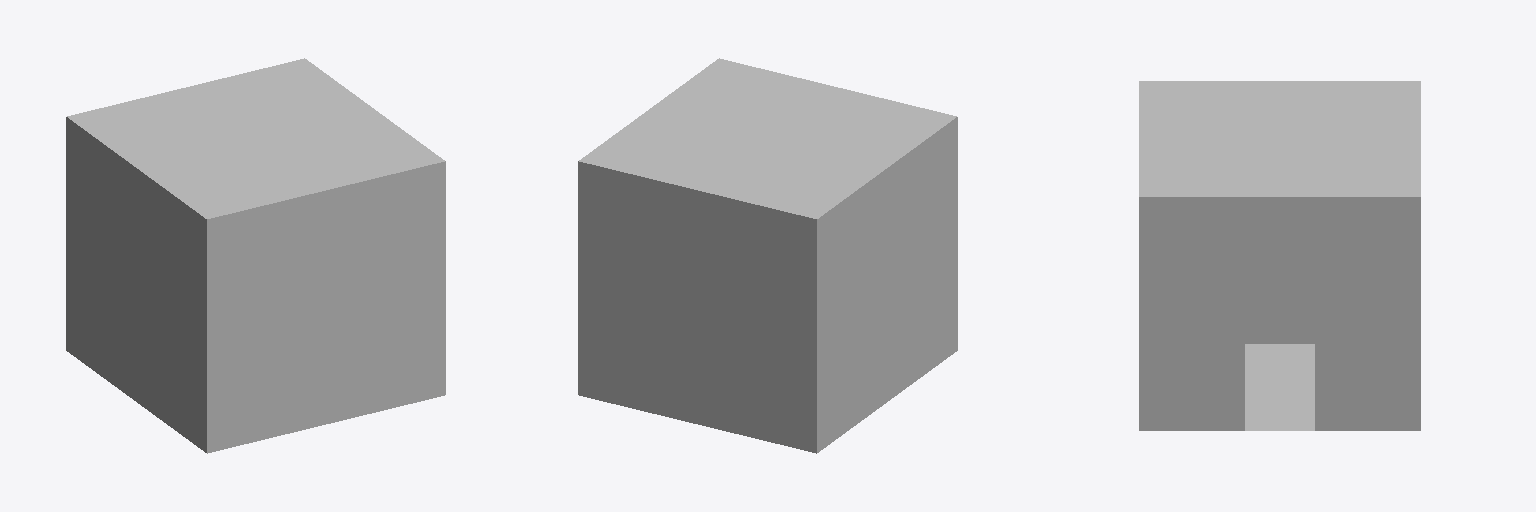
Rendered from house.obj.
3 renders of one model, left to right at view 1: azimuth 30°, elevation 25°; view 2: azimuth 150°, elevation 25°; view 3: azimuth 270°, elevation 25°, orthographic.
Parts seen in each view (by area): view 1: Cube; view 2: Cube; view 3: Cube.
Boxes of the visible parts, <box> form: Cube: <box>66,58,445,453</box>; Cube: <box>578,58,957,453</box>; Cube: <box>1139,81,1420,430</box>.
Size of the model in its own units: 13.69 by 12.82 by 13.96.